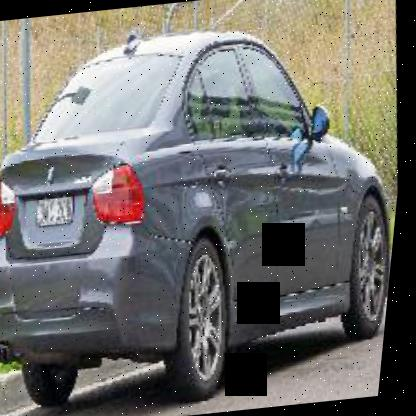not_emergency: (0, 9, 414, 397)
